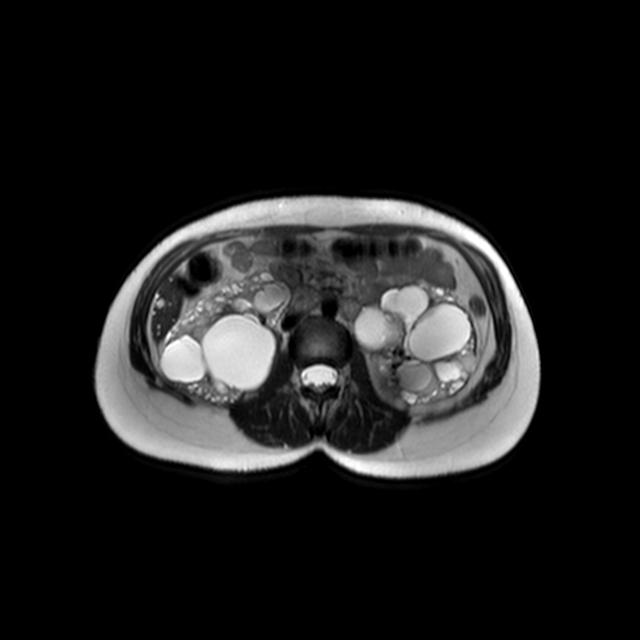sag: (159, 269, 294, 405)
sol: (354, 279, 478, 415)
